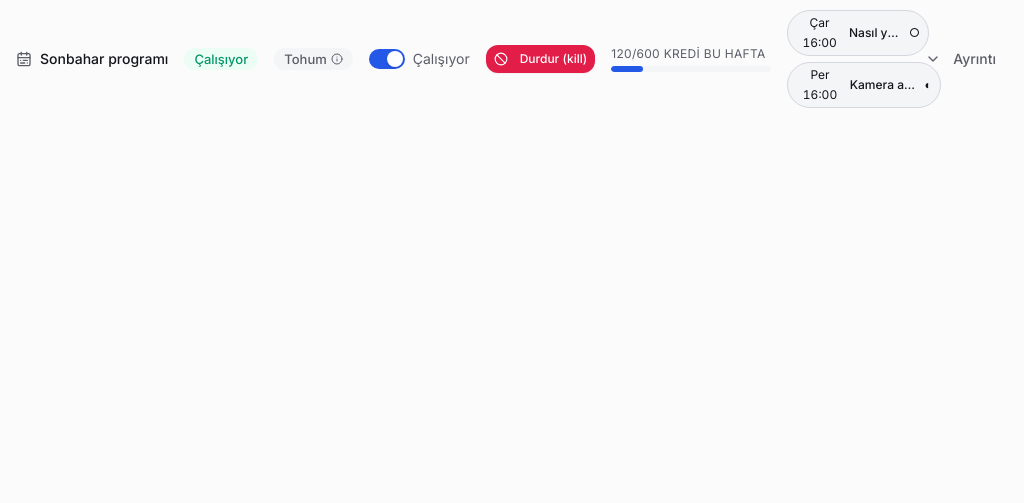
Test: ProgrammePanel — detail › Ayrıntı expands five tabs and the slots table opens a row into its metrics
Click the button "Ayrıntı" at (961, 59), box [913, 43, 1008, 75]
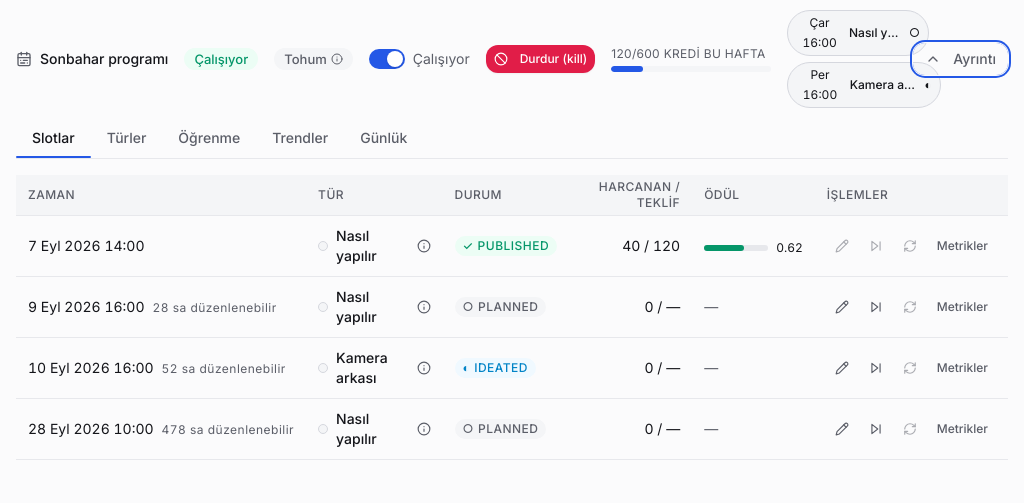
Check: the button "Ayrıntı" is expanded, box [913, 43, 1008, 75]
Check: the number of tabs is 5, box [16, 120, 91, 158]; [91, 120, 162, 158]; [162, 120, 256, 158]; [256, 120, 344, 158]; [344, 120, 423, 158]
Check: the number of rows with test id "programme-slot-row" is 4, box [16, 215, 1008, 276]; [16, 276, 1008, 337]; [16, 337, 1008, 398]; [16, 398, 1008, 459]
Click the button "Metrikler" in the row of "7 Eyl 2026 14:00" at (962, 246), box [929, 232, 996, 260]
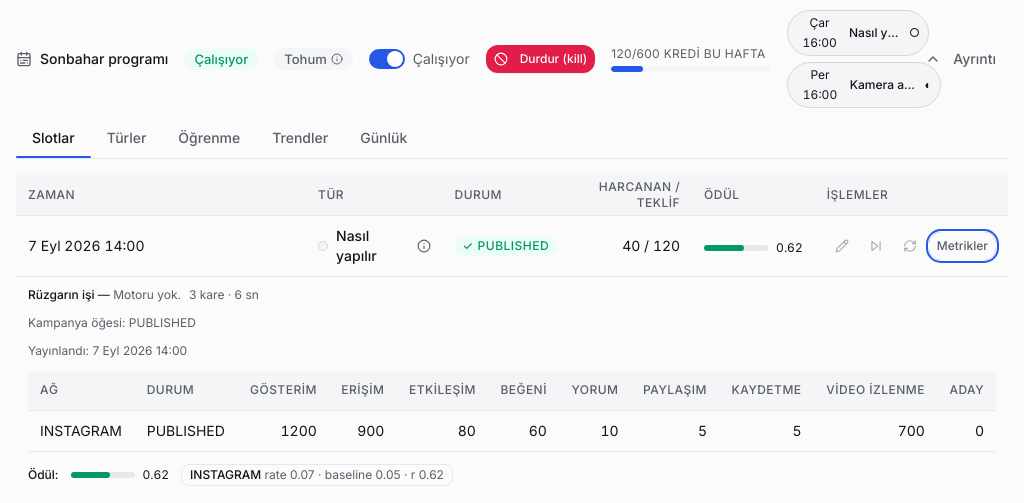
Check: the text "Rüzgarın işi" is shown, box [28, 286, 94, 302]
Check: the row with test id "programme-metrics-target" shows "INSTAGRAM", box [40, 422, 122, 439]
Check: the row with test id "programme-metrics-target" shows "1200", box [280, 422, 317, 439]
